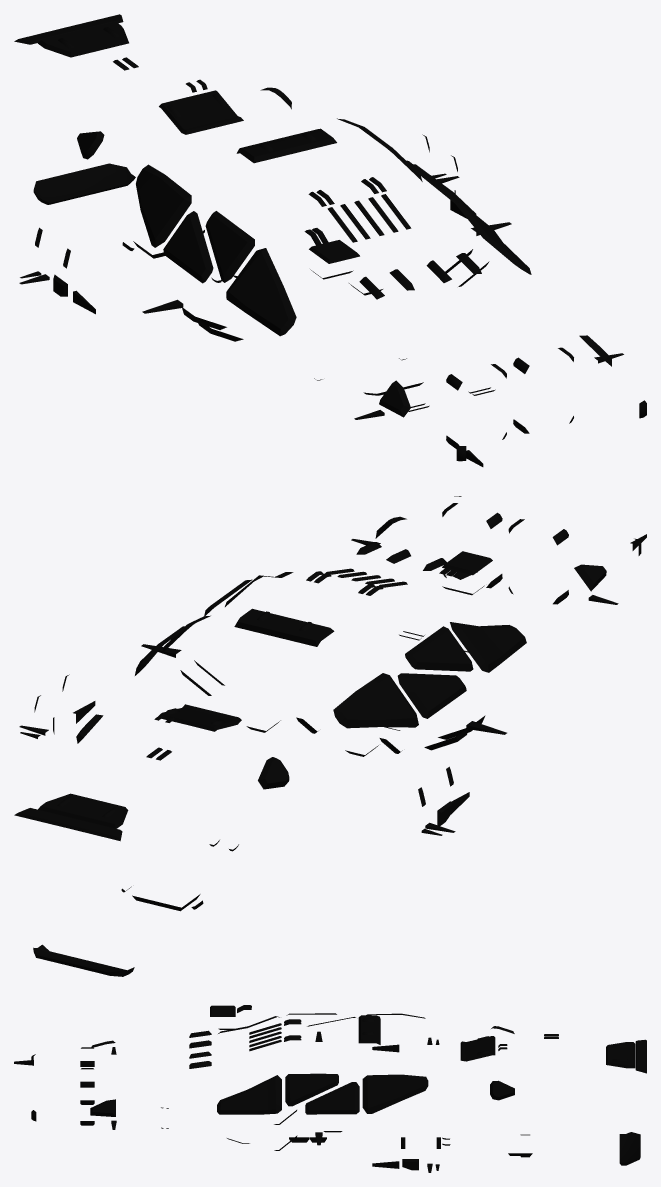
The model's file is hgn_cf_torp_01_t4.glb.
3 renders of one model, top to bottom at view 1: azimuth 30°, elevation 25°; view 2: azimuth 150°, elevation 25°; view 3: azimuth 270°, elevation 25°, orthographic. The views are drawn at different scales.
Visible parts, largest first — view 1: hgn_torpedo_frigate_01_t4_LOD0; view 2: hgn_torpedo_frigate_01_t4_LOD0; view 3: hgn_torpedo_frigate_01_t4_LOD0.
Part boxes in pixels (bbox=[...]): hgn_torpedo_frigate_01_t4_LOD0: bbox=[14, 14, 646, 466]; hgn_torpedo_frigate_01_t4_LOD0: bbox=[14, 496, 646, 976]; hgn_torpedo_frigate_01_t4_LOD0: bbox=[14, 1005, 646, 1172].
Size of what is drawn, in the model's own units: 1.48 by 0.6517 by 2.93.
Materials: 1 (1 with a texture image).
